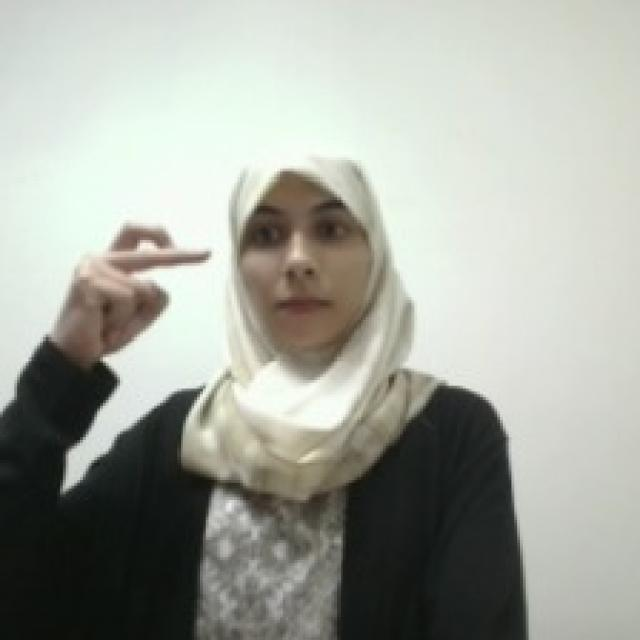sunday: (57, 209, 215, 359)
